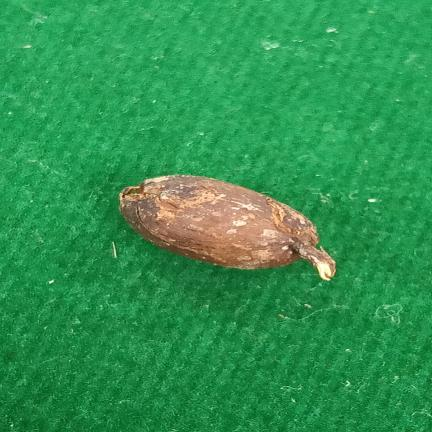husk: (120, 175, 335, 280)
